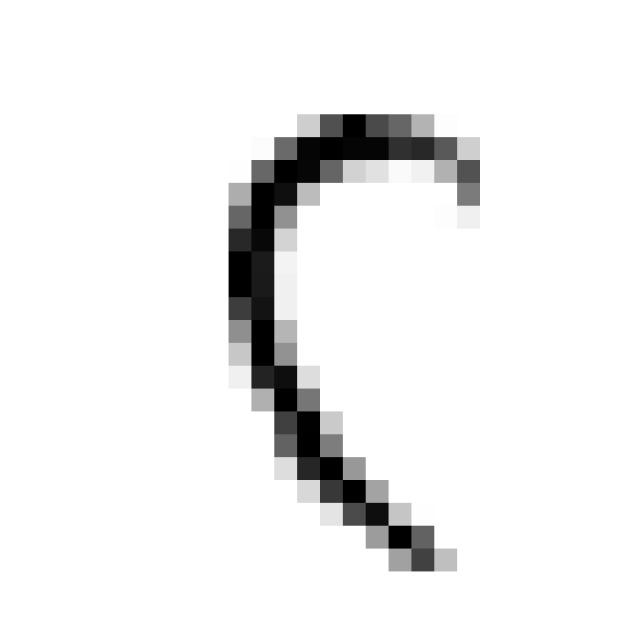2 -two-: (206, 80, 511, 597)
